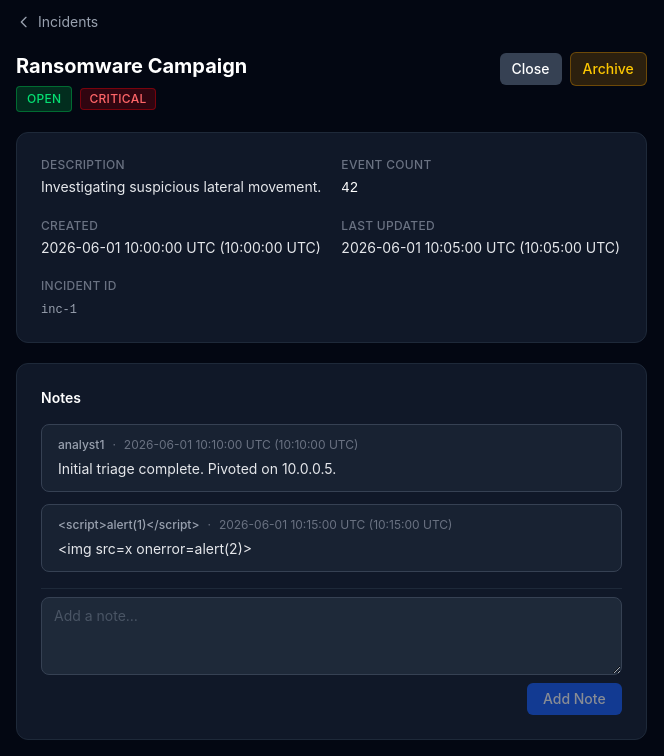
Test case: IncidentDetailPage — notes panel › Add Note button becomes enabled when content is typed
Type "New evidence found." into the text box with placeholder "Add a note…" at (331, 636), box [41,597,622,675]
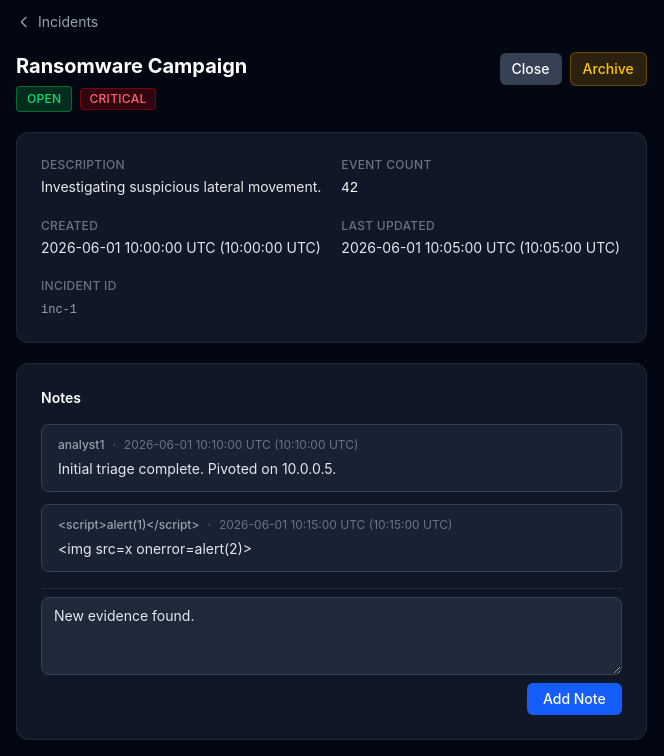
Expected: the button "Add Note" is enabled, [527,683,622,715]
